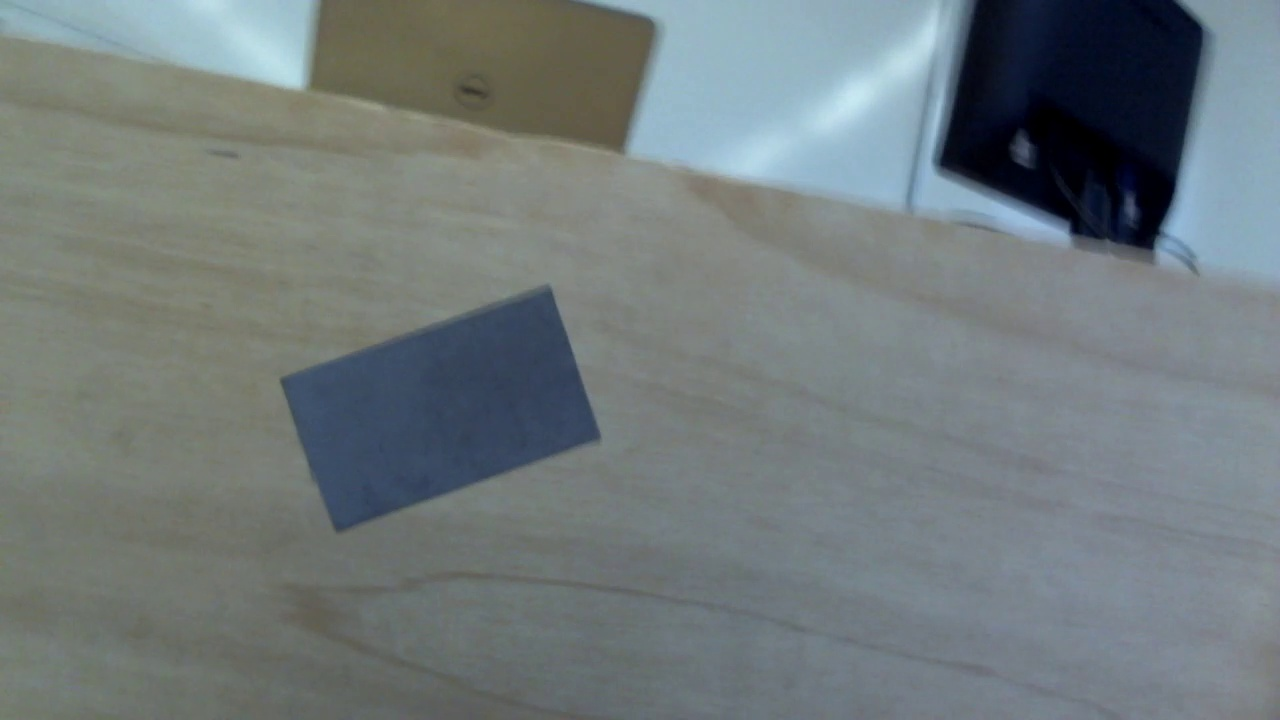Tape: (279, 286, 604, 537)
